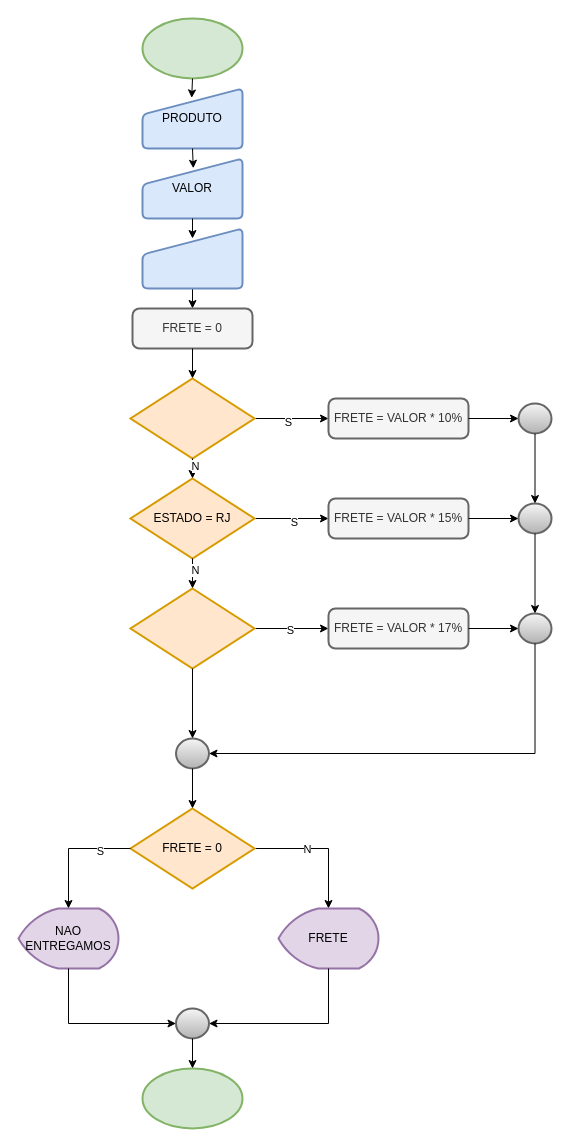
This 569x1146 diagram has some shape labels left out. Each missing label, with the centre of its shape:
"ESTADO" belongs at (192,258).
"ESTADO = MG" belongs at (192,628).
"ESTADO = SP" belongs at (192,418).
"FIM" belongs at (192,1098).
"INICIO" belongs at (192,48).
